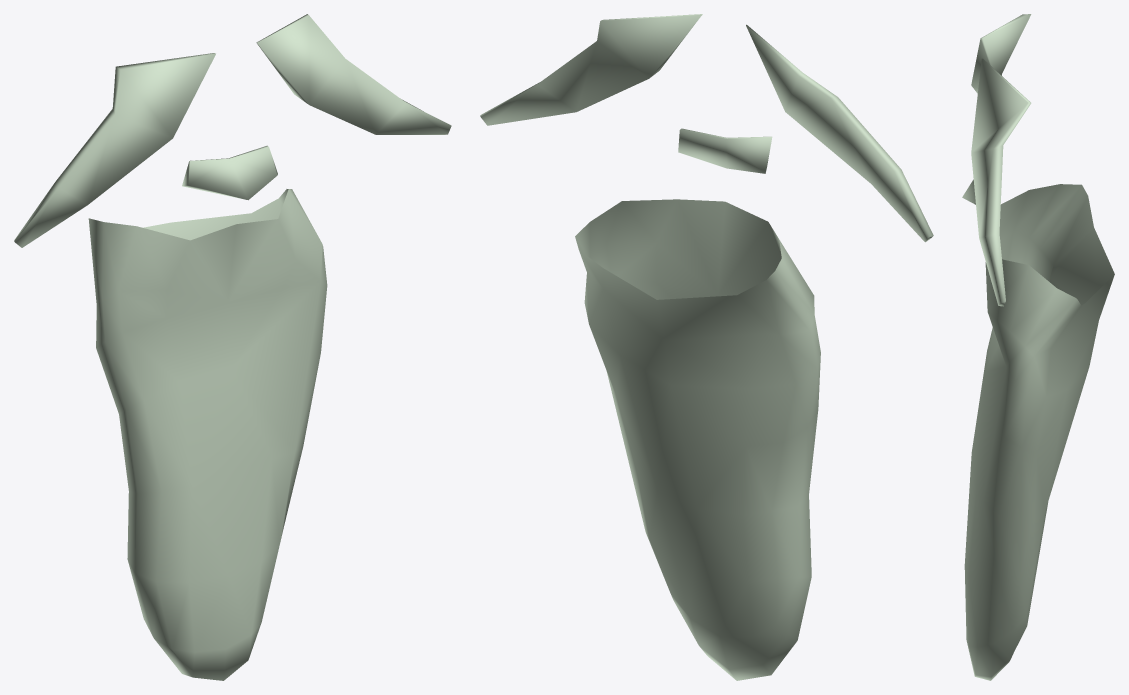
The model's file is beard_liu_bang.glb.
3 views of the same model, side by side, from view 1: azimuth 30°, elevation 25°; view 2: azimuth 150°, elevation 25°; view 3: azimuth 270°, elevation 25° (orthographic). The views are drawn at different scales.
Parts seen in each view (by area): view 1: beard_liu_bang; view 2: beard_liu_bang; view 3: beard_liu_bang.
Boxes of the visible parts, box(x1,y1,x2,y2) form: beard_liu_bang: box(14, 14, 451, 680); beard_liu_bang: box(480, 14, 933, 680); beard_liu_bang: box(962, 14, 1114, 680).
Bounding box in the file's own units: 0.00394 × 0.00544 × 0.00118.
